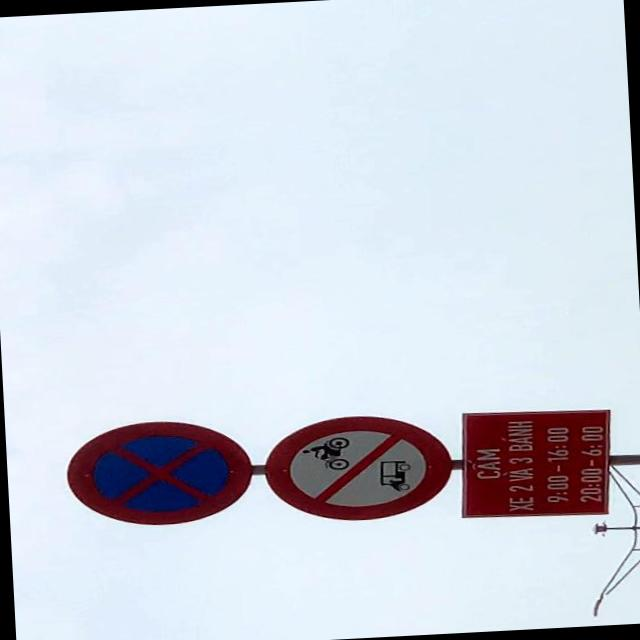P-104: (262, 407, 453, 524)
P-130: (64, 414, 255, 530)
